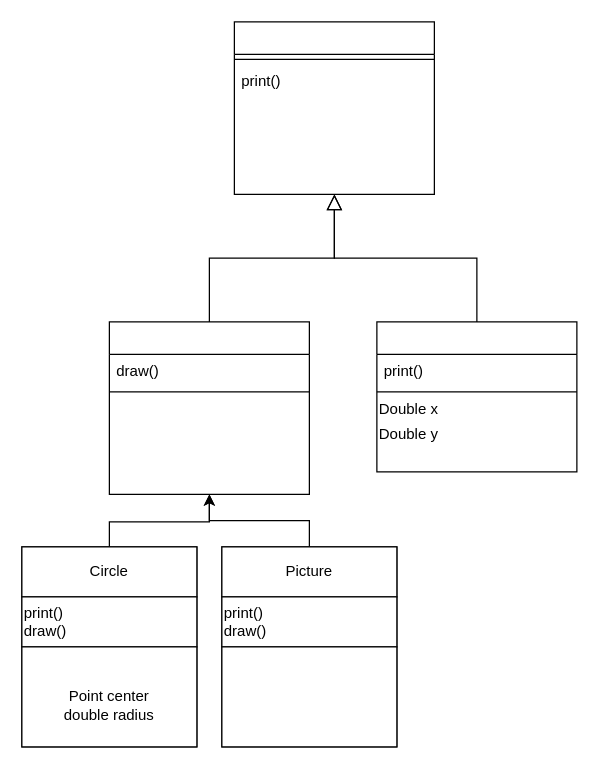
Image size: 599x769. Some labels were removed from this diagram. The box of each missing label's shape, as (x1, y1, x2, y2) in pixels:
Drawable: (108, 321, 309, 494)
Object: (233, 21, 434, 194)
Point: (376, 321, 577, 472)
